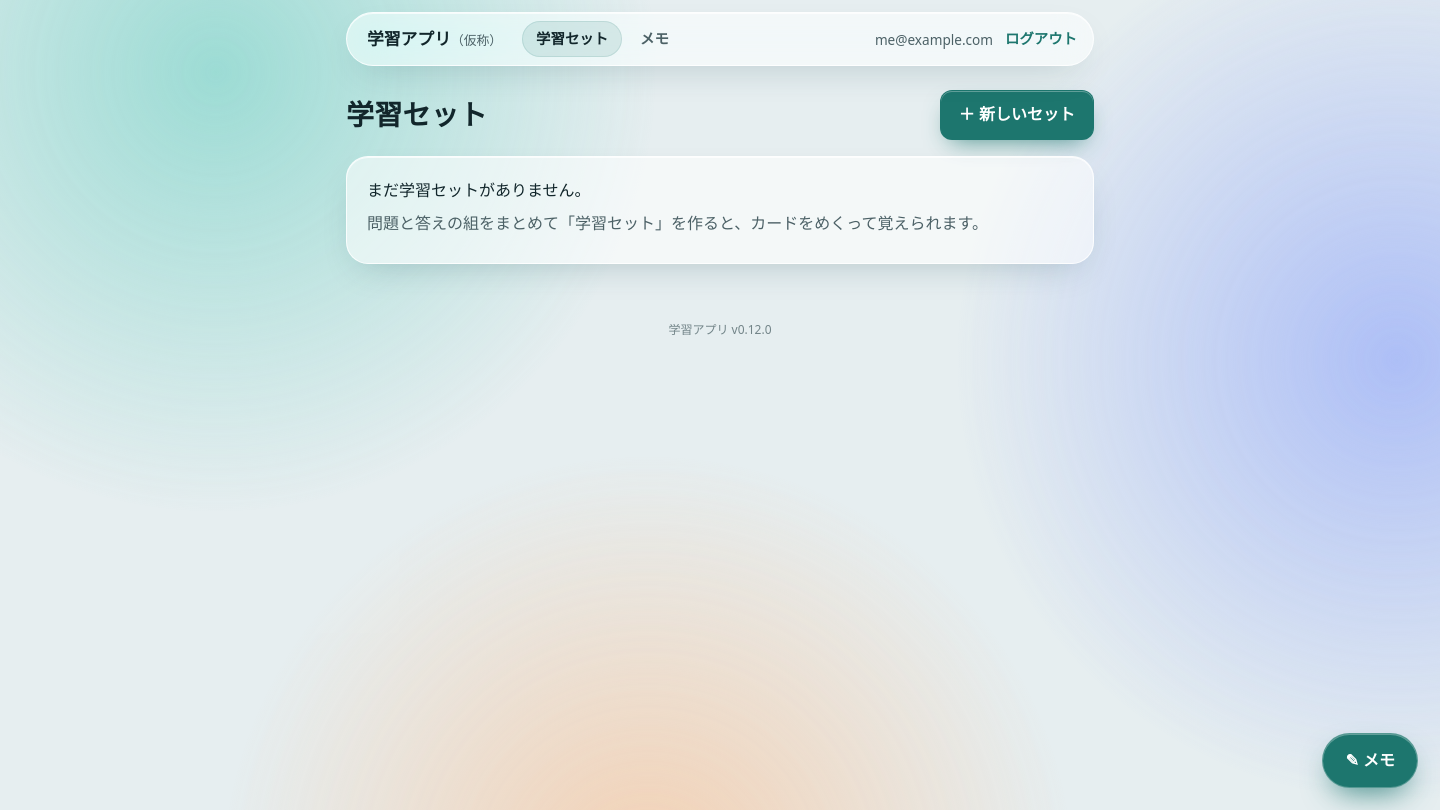
Test: クイックメモ › Esc で閉じられる
The width and height of the screenshot is (1440, 810).
Click the button with aria-label "メモを開く" at (1370, 760), box [1322, 733, 1418, 788]
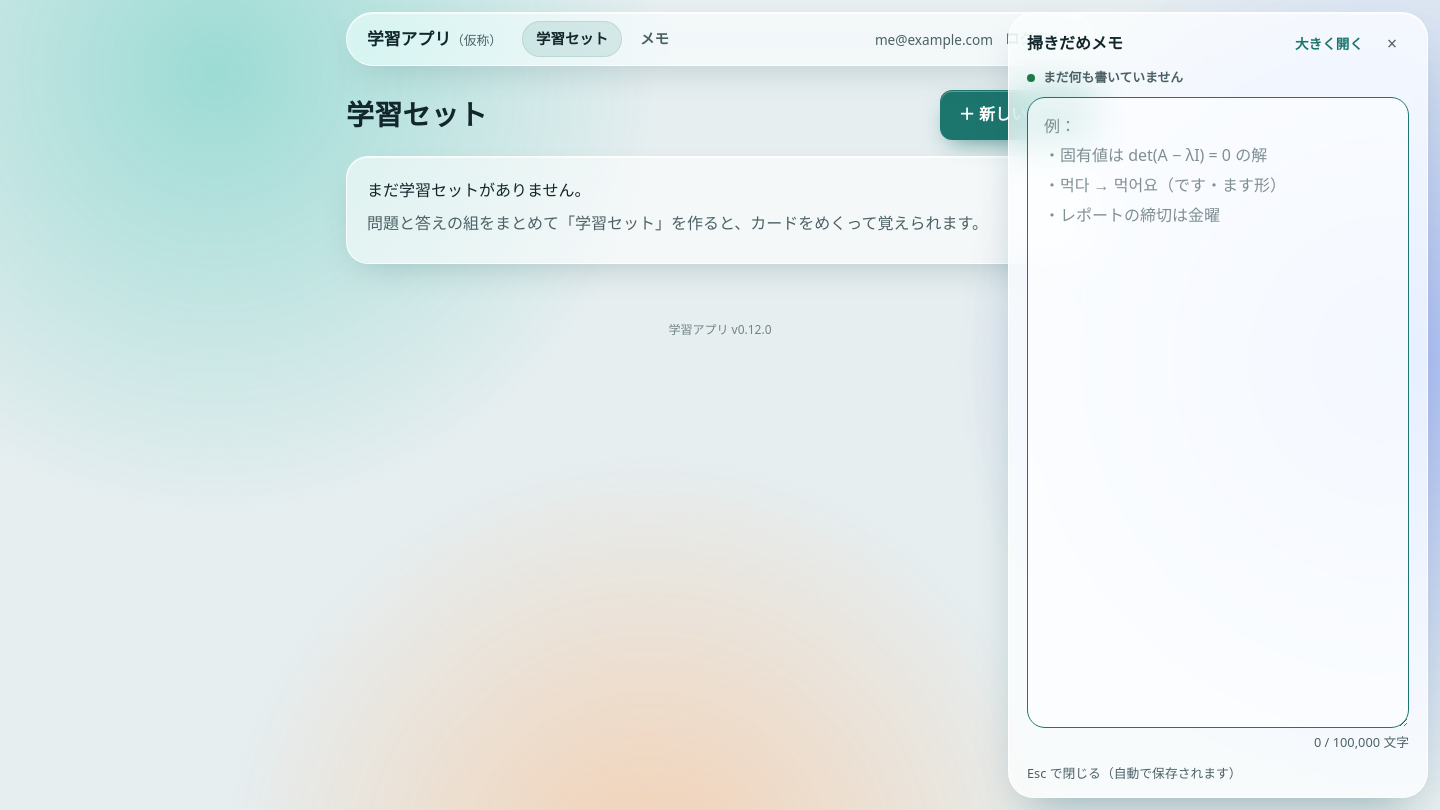
Result: the text box named "掃きだめメモ" is shown at [1027, 97, 1409, 728]
Press Escape
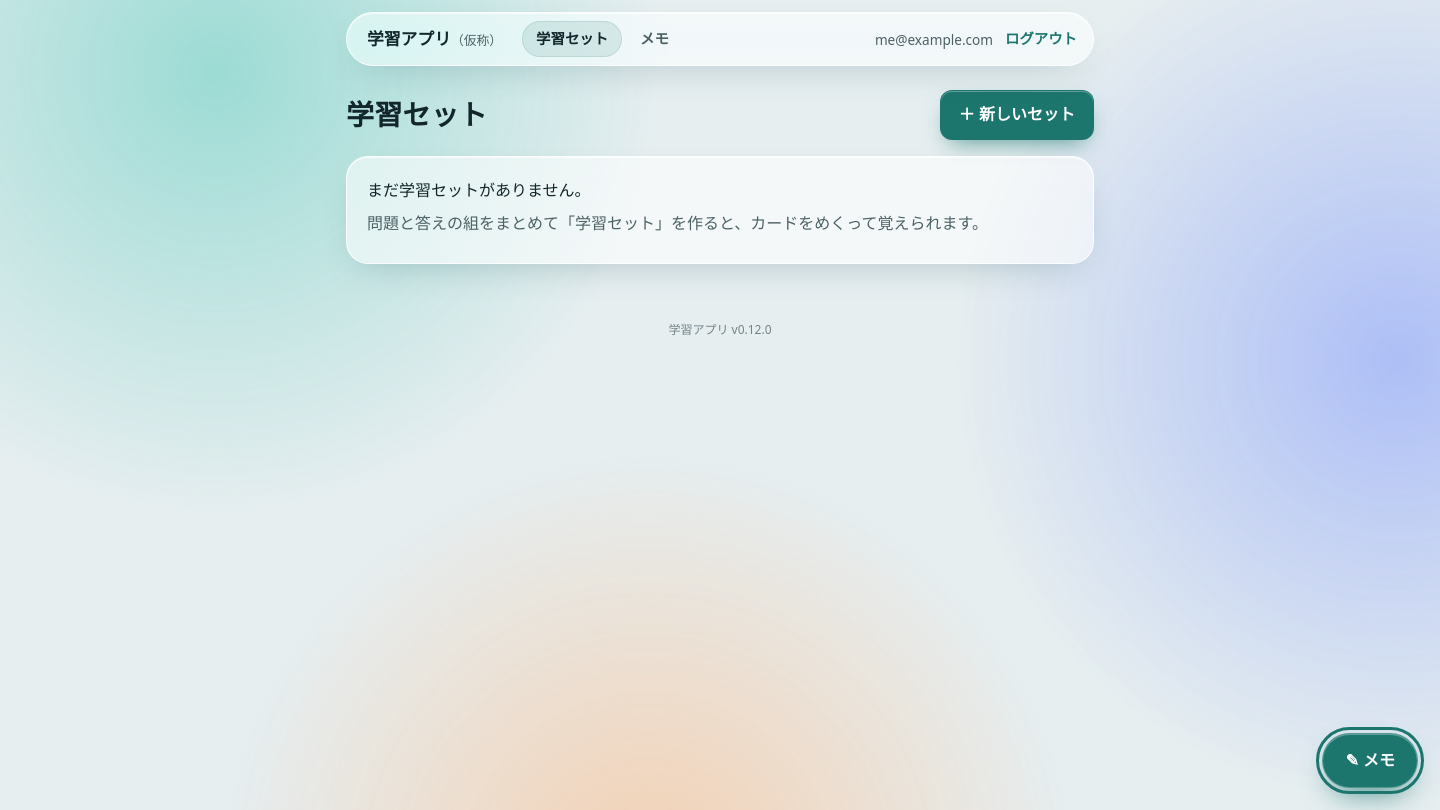
Result: the text labelled "掃きだめメモ" is gone
